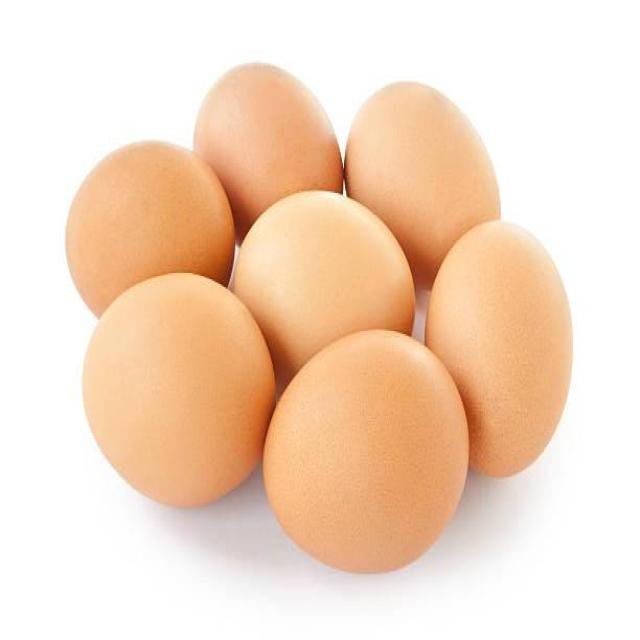Egg: (264, 329, 468, 571), (84, 275, 274, 505), (426, 221, 572, 475), (234, 193, 414, 387), (345, 83, 500, 289), (66, 141, 234, 317), (193, 64, 342, 243)
